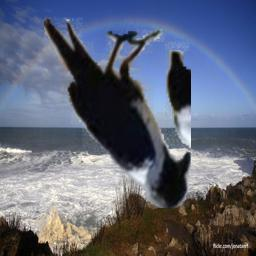Crow: (44, 12, 191, 208)
